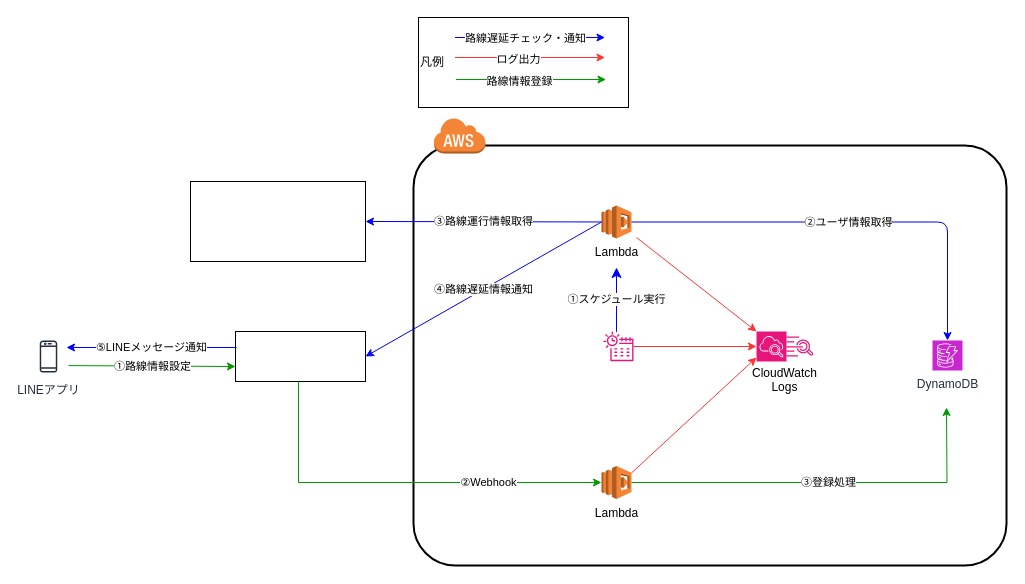
Image size: 1025x584. Some labels were removed from this diagram. Each missing label, with the centre of its shape:
"EvebtBridge Scheduler" belongs at (x=618, y=346).
"LINE Platform" belongs at (x=300, y=356).
"公共交通 オープンデータセンター API" belongs at (x=278, y=221).
